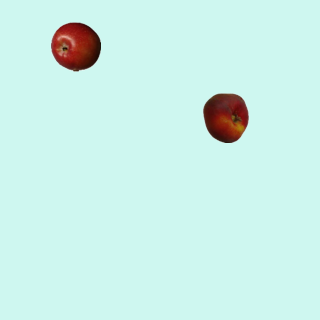Apple Braeburn: (50, 21, 100, 71)
Nectarine Flat: (200, 92, 250, 142)
